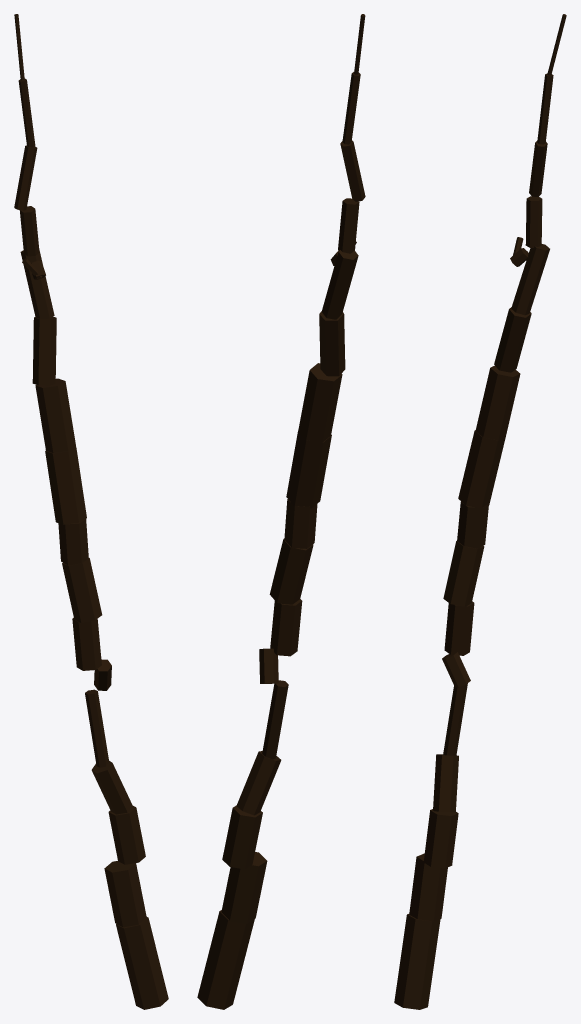
The model's file is tree_535_no_leaf.obj.
The picture shows the model from 3 angles, left to right: view 1: azimuth 30°, elevation 25°; view 2: azimuth 210°, elevation 25°; view 3: azimuth 270°, elevation 25°; orthographic projection. The views are drawn at different scales.
Parts seen in each view (by area): view 1: TrunkAndBranches; view 2: TrunkAndBranches; view 3: TrunkAndBranches.
Boxes of the visible parts, left/top/right/bottom form: TrunkAndBranches: left=14, top=14, right=168, bottom=1009; TrunkAndBranches: left=197, top=14, right=365, bottom=1009; TrunkAndBranches: left=394, top=14, right=566, bottom=1009.
Size of the model in its own units: 0.2582 by 2.65 by 0.4296.
